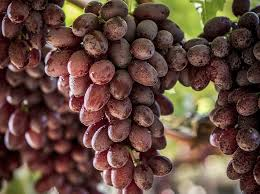Red Grapes: (52, 2, 182, 194)
